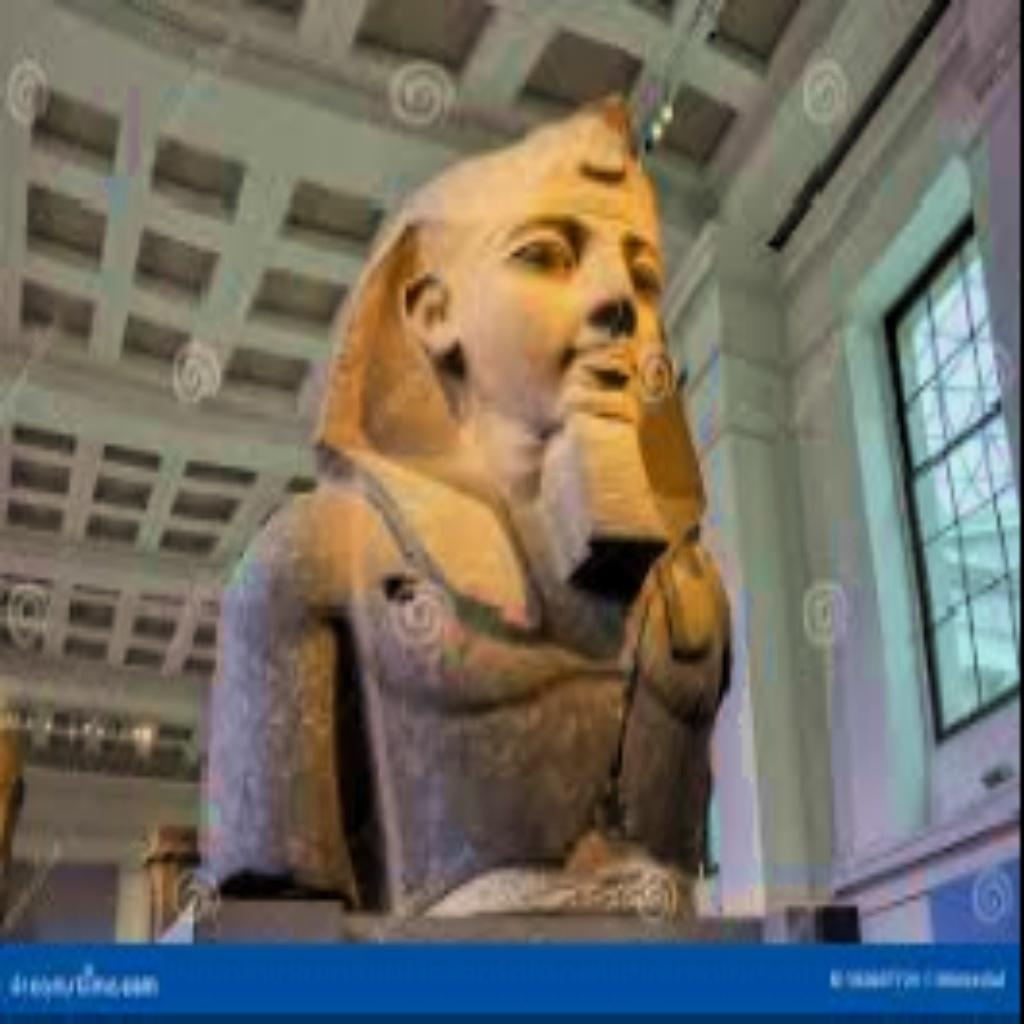bust of Ramesses II: (186, 86, 734, 928)
